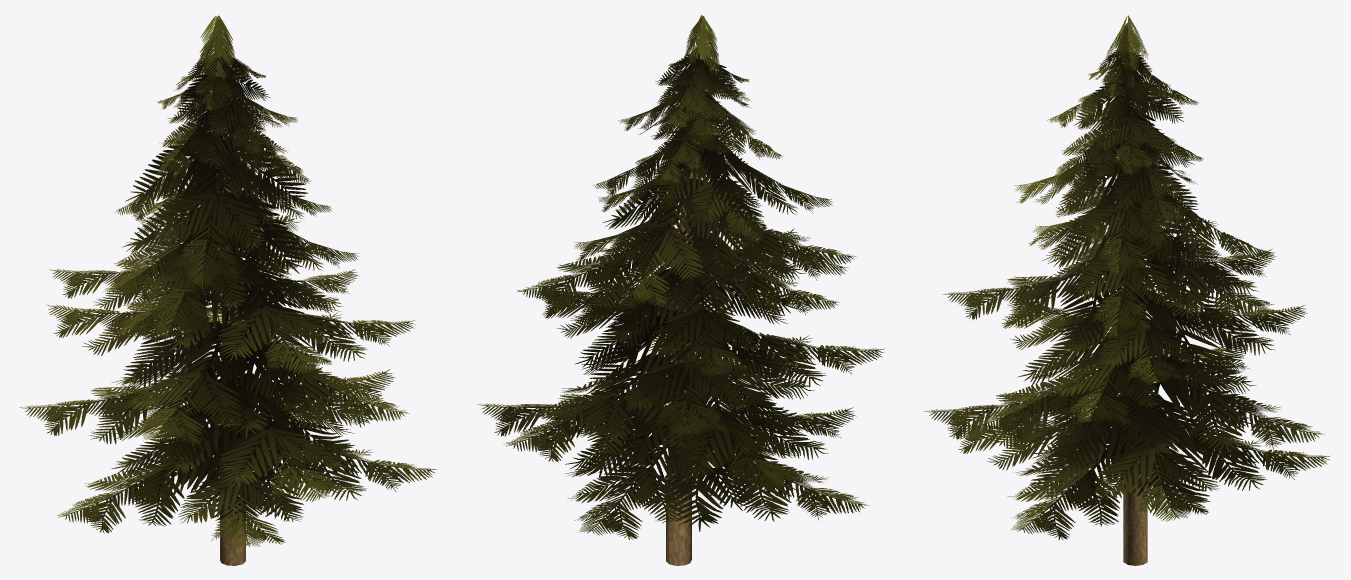
Rendered from pine_tree.obj.
The picture shows the model from 3 angles, left to right: view 1: azimuth 30°, elevation 25°; view 2: azimuth 150°, elevation 25°; view 3: azimuth 270°, elevation 25°; orthographic projection. The views are drawn at different scales.
Parts seen in each view (by area): view 1: obj1, obj2; view 2: obj1, obj2; view 3: obj1, obj2.
Part boxes in pixels (bbox=[...]): obj1: bbox=[19, 15, 436, 548]; obj2: bbox=[214, 29, 245, 565]; obj1: bbox=[477, 15, 884, 539]; obj2: bbox=[666, 28, 705, 565]; obj1: bbox=[924, 15, 1331, 539]; obj2: bbox=[1121, 28, 1147, 565].
Size of the model in its own units: 217 by 308 by 217.
Materials: 2 (2 with a texture image).
